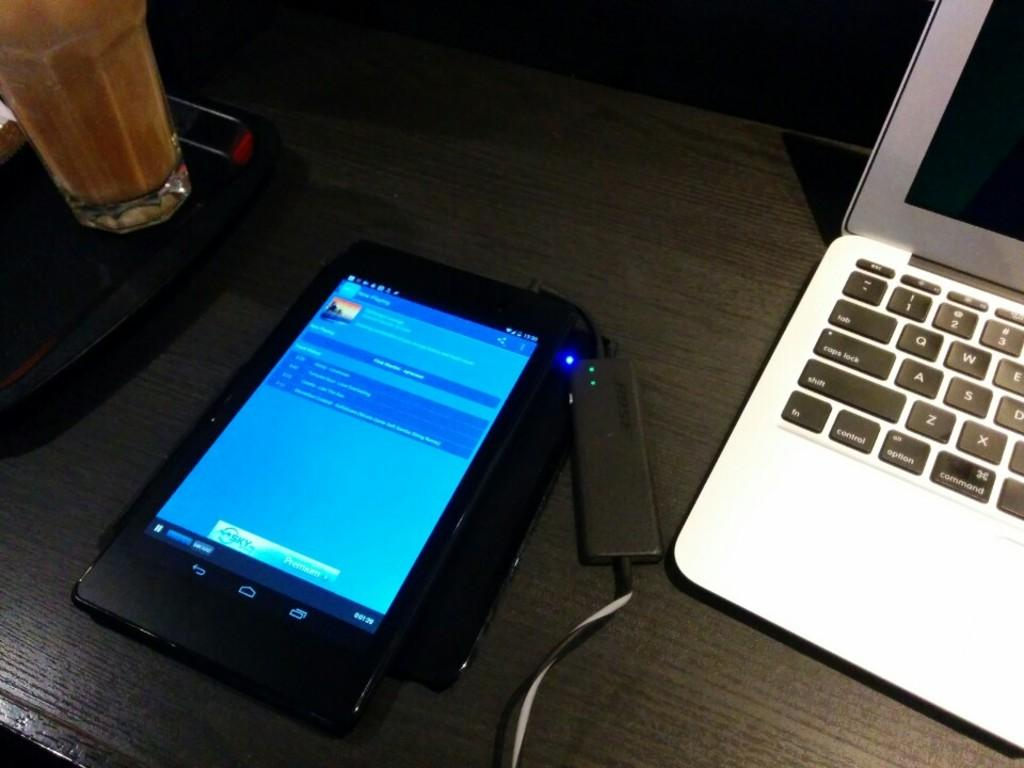Computer-keyboard: (781, 254, 1023, 523)
